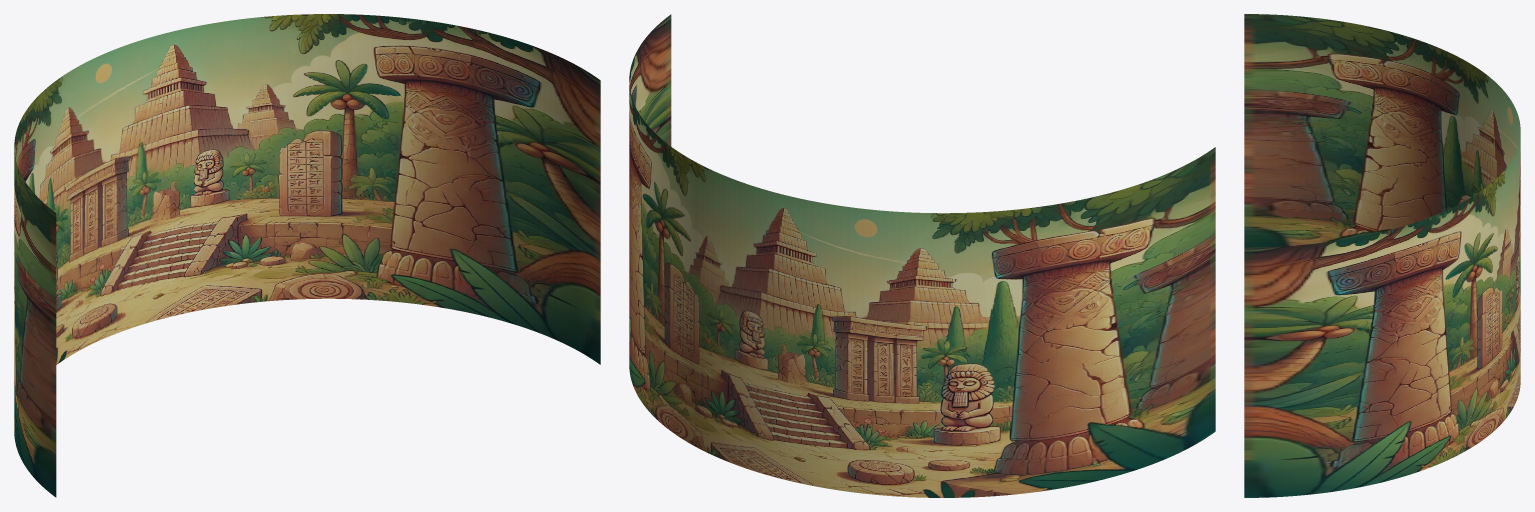
File: Background_fbx_common_textured.fbx
3 renders of one model, left to right at view 1: azimuth 30°, elevation 25°; view 2: azimuth 150°, elevation 25°; view 3: azimuth 270°, elevation 25°, orthographic. The views are drawn at different scales.
Parts seen in each view (by area): view 1: Obj; view 2: Obj; view 3: Obj.
Part boxes in pixels (box(x1,y1,x2,y2)): Obj: box(14, 14, 600, 497); Obj: box(629, 14, 1215, 497); Obj: box(1244, 14, 1520, 497).
Bounding box in the file's own units: 200 × 100 × 100.
Materials: 1 (1 with a texture image).
